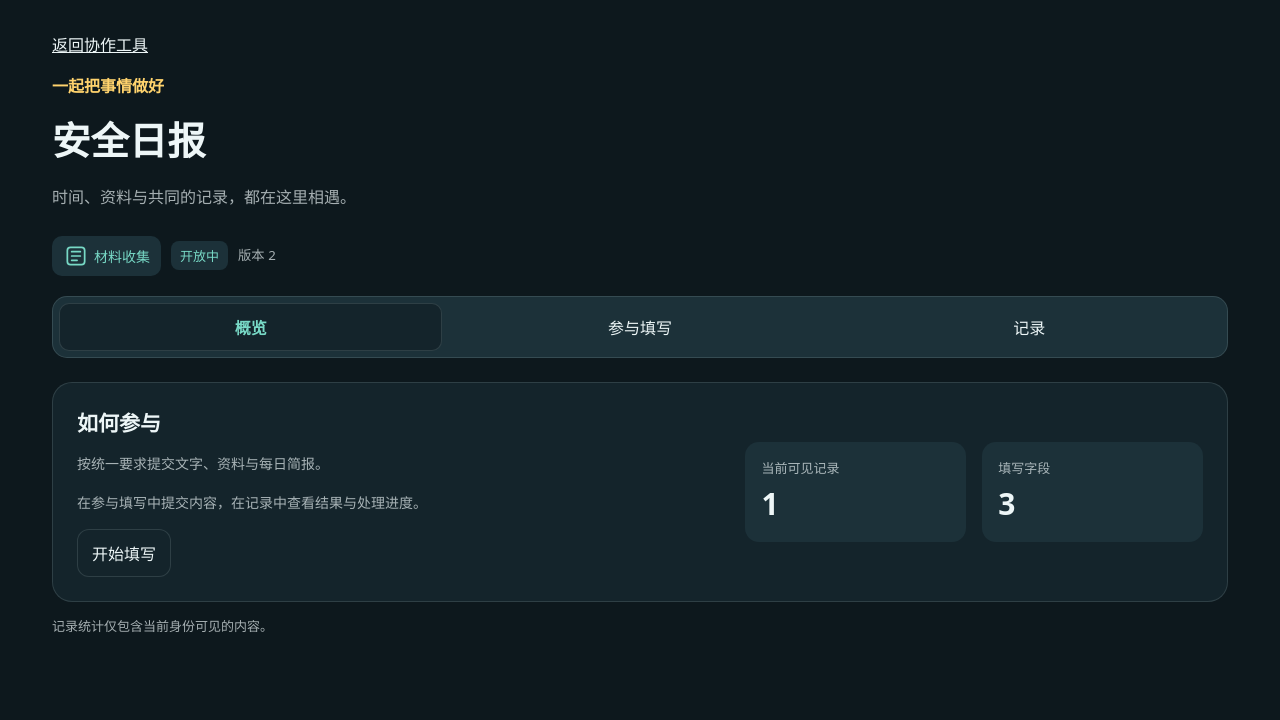
Test: renders report date team and safety status on material cards
Click the tab "记录" at x=1029, y=326, box [838,302,1221,350]
(page scrolled)
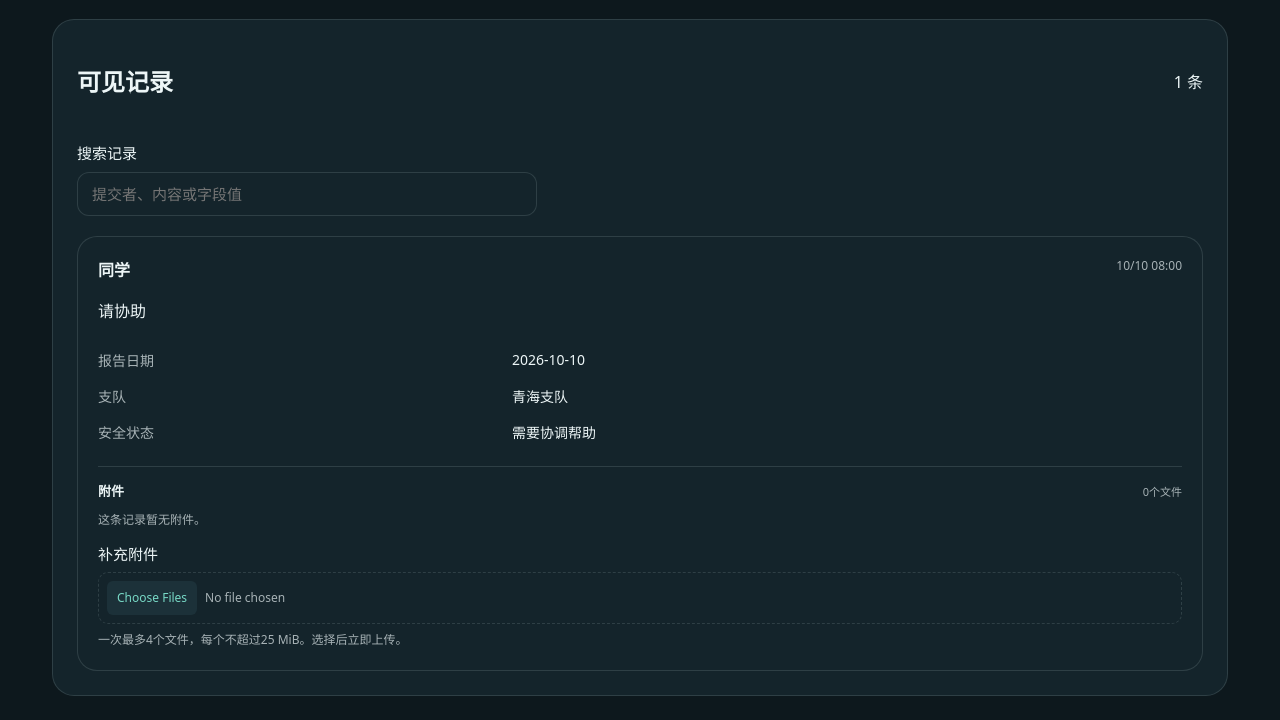
Result: the text "青海支队" is shown at [512,387,568,406]
Result: the text "需要协调帮助" is shown at [512,423,596,442]
Result: the text "2026-10-10" is shown at [512,350,585,369]
